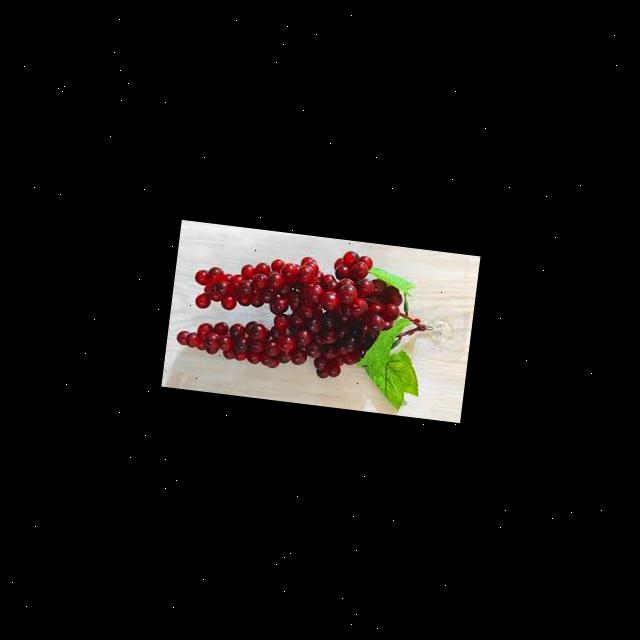grape: (174, 230, 408, 386)
